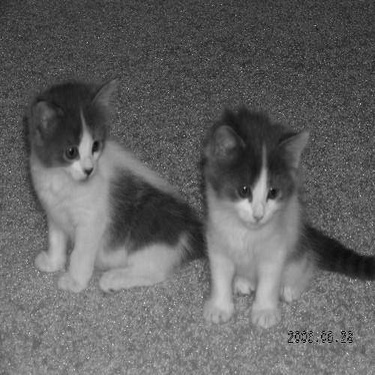cat: (199, 92, 360, 333), (11, 89, 200, 271)
